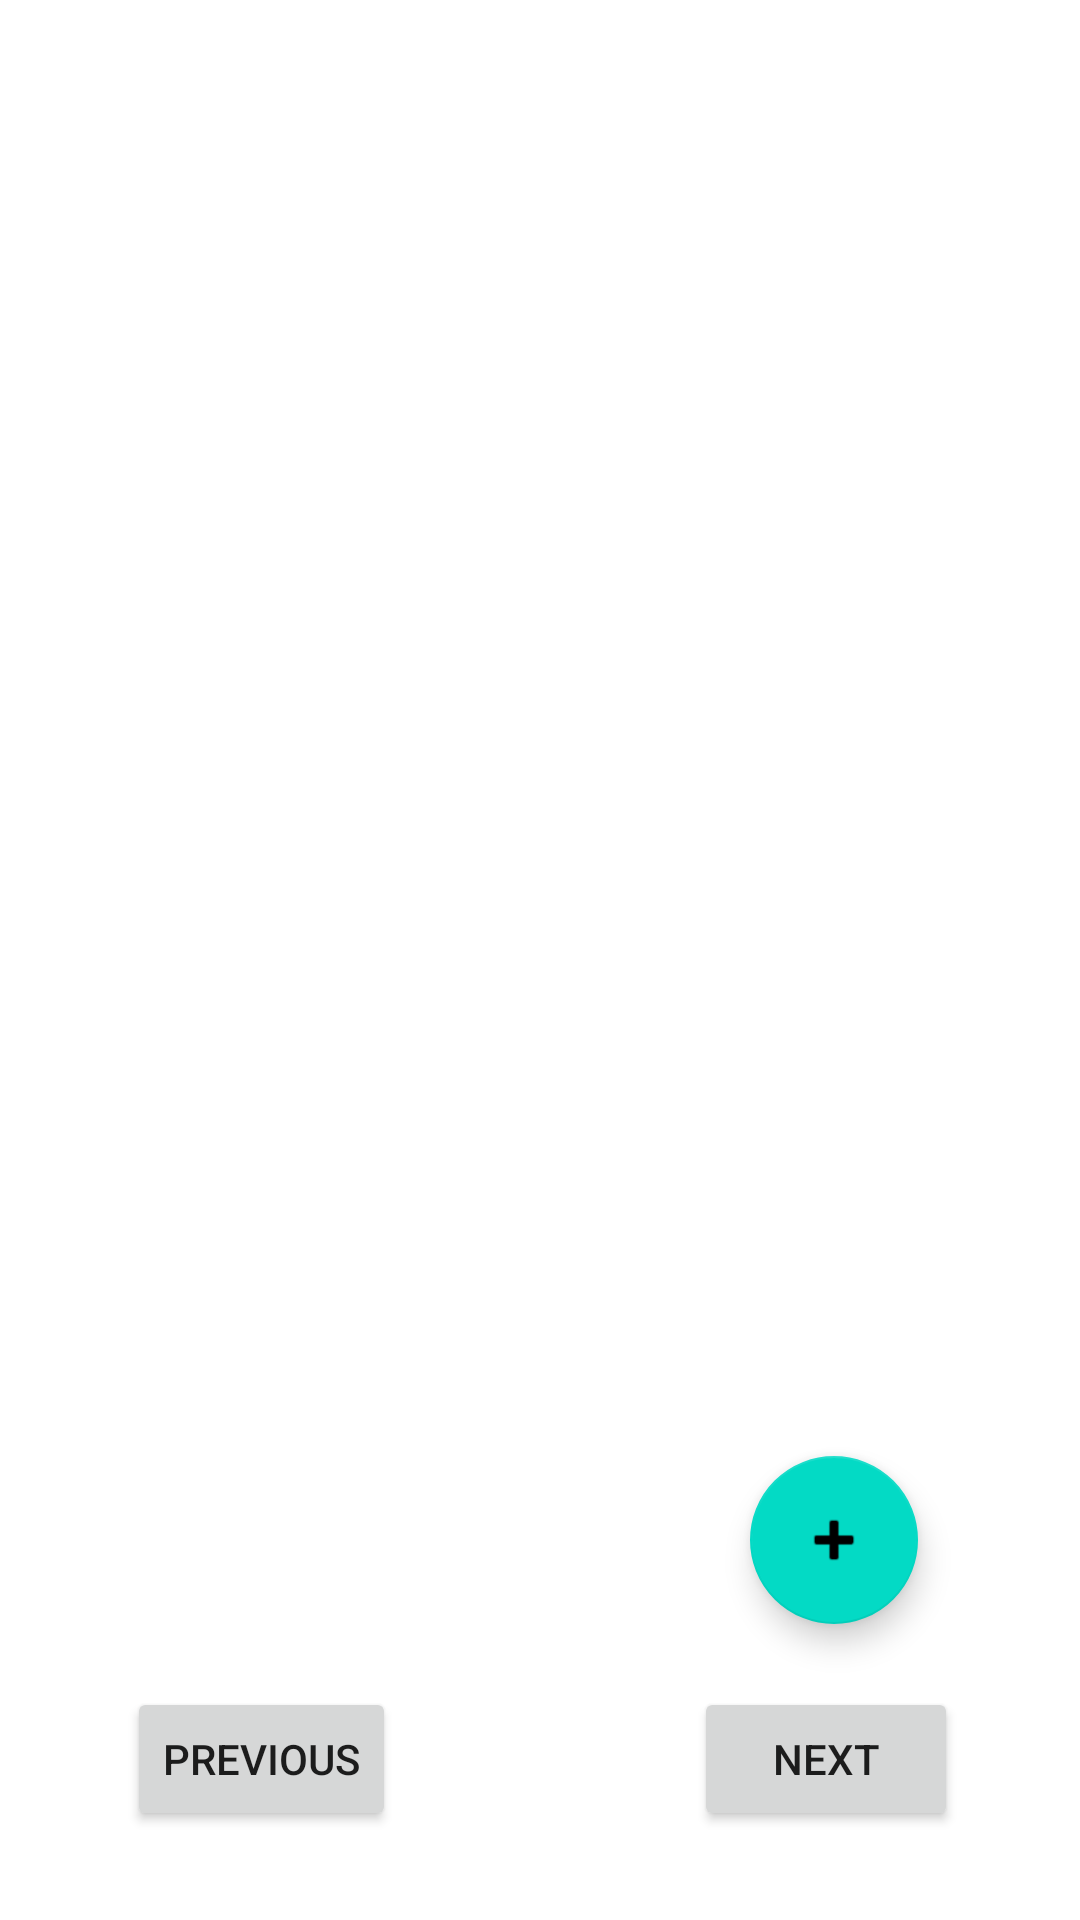

Screen size 1080×1920. Icon name, then its box in pixels as box=[x1, y1, x2, y2]:
add: box=[750, 1456, 918, 1624]
